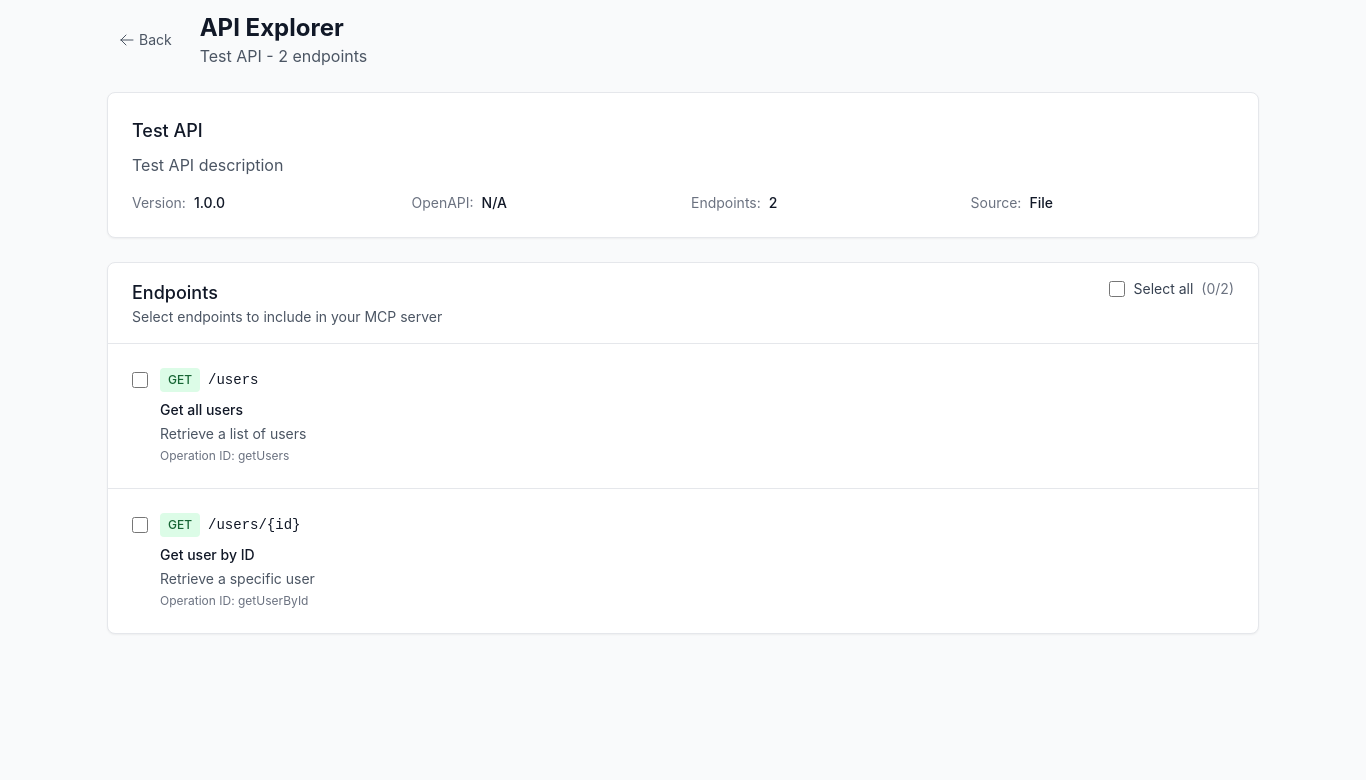
Test: ApiExplorer › select all › selects every endpoint in one click
The image size is (1366, 780).
Click the checkbox labelled "Select all (0/2)" at (1118, 289), box [1110,281,1126,297]
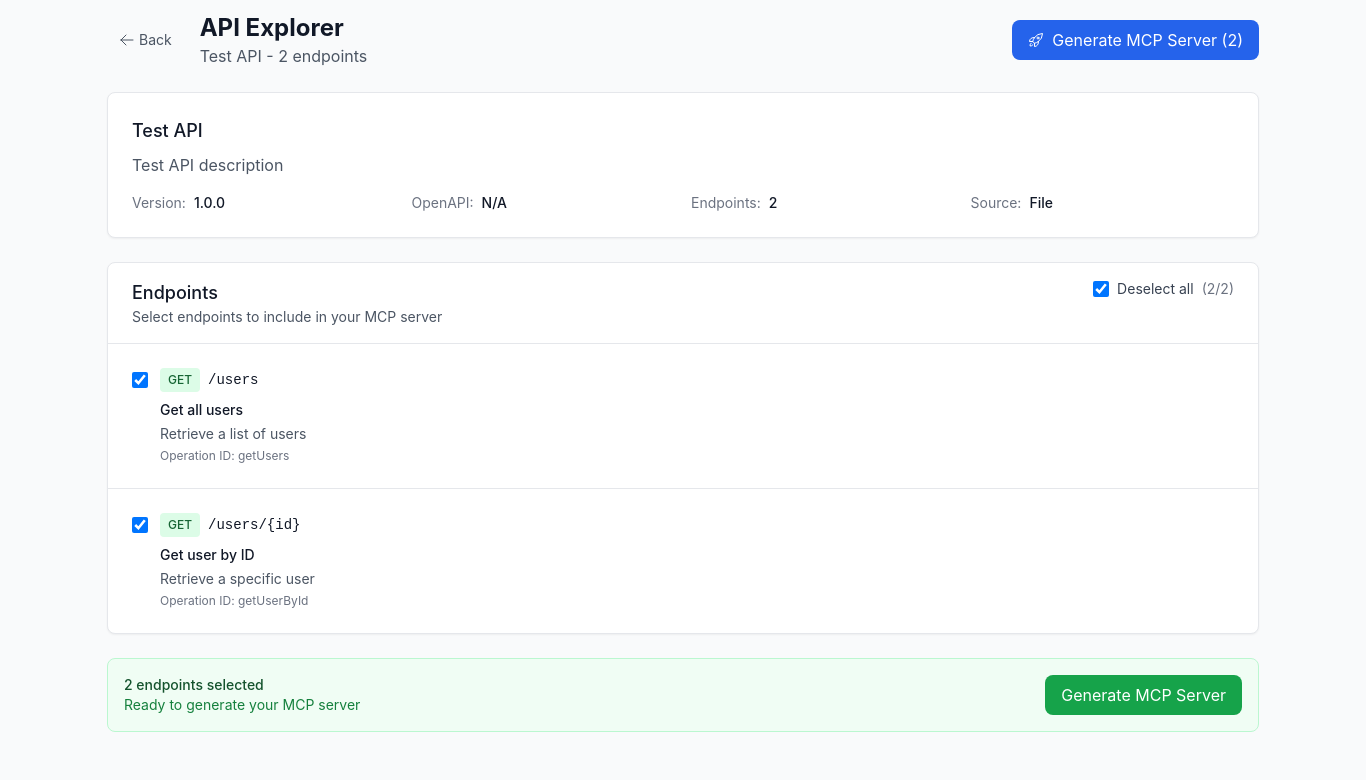
expect the checkbox labelled "Deselect all (2/2)" is checked: met, box [1093,281,1109,297]
expect the button "Generate MCP Server (2)" is shown: met, box [1012,20,1259,60]
expect the checkbox named "Select GET /users" is checked: met, box [132,372,148,388]
